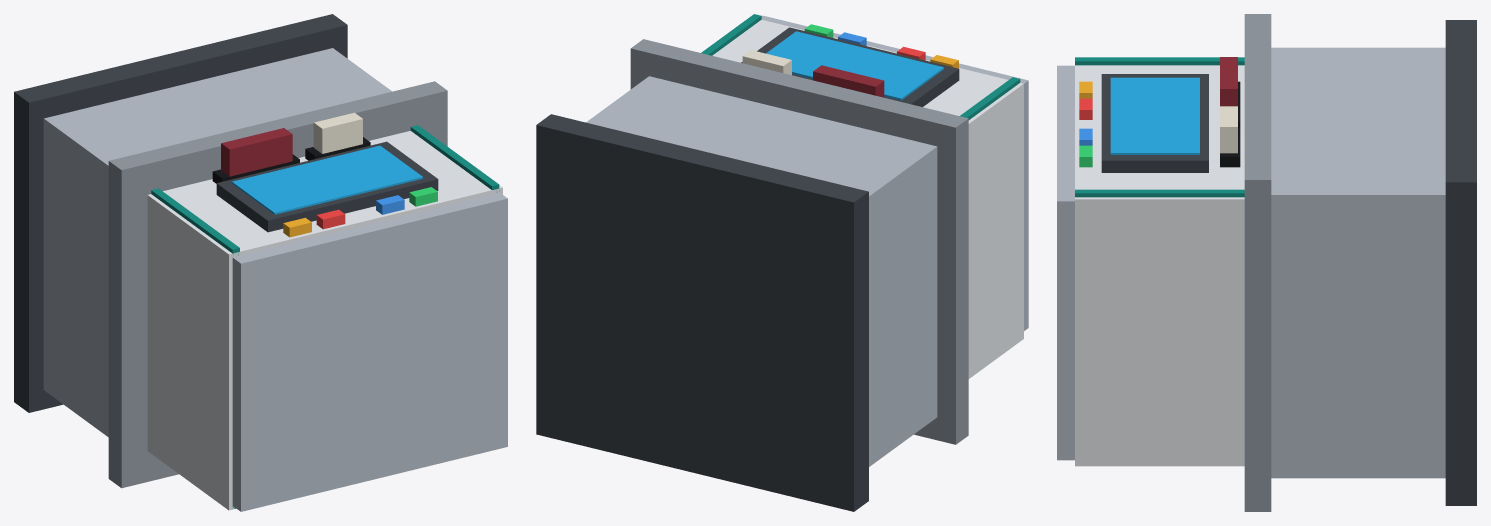
Rendered from passport_issuer.obj.
3 views of the same model, side by side, from view 1: azimuth 30°, elevation 25°; view 2: azimuth 150°, elevation 25°; view 3: azimuth 270°, elevation 25° (orthographic). The views are drawn at different scales.
Visible parts, largest first — view 1: DEV_16_passport_issuer_body2, DEV_01_passport_issuer_body2, DEV_03_passport_issuer_body, DEV_02_passport_issuer_top, DEV_00_passport_issuer_trim, DEV_05_passport_issuer_screen, DEV_04_passport_issuer_trim, DEV_09_passport_issuer_passport, DEV_08_passport_issuer_paper, DEV_11_passport_issuer_accent, DEV_10_passport_issuer_accent; view 2: DEV_00_passport_issuer_trim, DEV_01_passport_issuer_body2, DEV_02_passport_issuer_top, DEV_03_passport_issuer_body, DEV_05_passport_issuer_screen, DEV_16_passport_issuer_body2, DEV_04_passport_issuer_trim, DEV_09_passport_issuer_passport, DEV_08_passport_issuer_paper, DEV_11_passport_issuer_accent, DEV_10_passport_issuer_accent; view 3: DEV_01_passport_issuer_body2, DEV_03_passport_issuer_body, DEV_00_passport_issuer_trim, DEV_02_passport_issuer_top, DEV_16_passport_issuer_body2, DEV_05_passport_issuer_screen, DEV_04_passport_issuer_trim, DEV_10_passport_issuer_accent, DEV_11_passport_issuer_accent, DEV_09_passport_issuer_passport, DEV_08_passport_issuer_paper.
Boxes of the visible parts, bbox=[...] form: DEV_16_passport_issuer_body2: bbox=[232, 192, 507, 511]; DEV_01_passport_issuer_body2: bbox=[43, 48, 391, 437]; DEV_03_passport_issuer_body: bbox=[147, 131, 502, 510]; DEV_02_passport_issuer_top: bbox=[108, 81, 447, 488]; DEV_00_passport_issuer_trim: bbox=[14, 14, 347, 412]; DEV_05_passport_issuer_screen: bbox=[232, 145, 422, 214]; DEV_04_passport_issuer_trim: bbox=[216, 141, 438, 232]; DEV_09_passport_issuer_passport: bbox=[221, 128, 292, 176]; DEV_08_passport_issuer_paper: bbox=[313, 112, 362, 153]; DEV_11_passport_issuer_accent: bbox=[151, 188, 239, 508]; DEV_10_passport_issuer_accent: bbox=[410, 125, 499, 192]; DEV_00_passport_issuer_trim: bbox=[536, 114, 868, 511]; DEV_01_passport_issuer_body2: bbox=[586, 76, 937, 466]; DEV_02_passport_issuer_top: bbox=[630, 39, 968, 444]; DEV_03_passport_issuer_body: bbox=[712, 19, 1023, 378]; DEV_05_passport_issuer_screen: bbox=[766, 31, 943, 100]; DEV_16_passport_issuer_body2: bbox=[761, 15, 1028, 330]; DEV_04_passport_issuer_trim: bbox=[741, 27, 959, 106]; DEV_09_passport_issuer_passport: bbox=[813, 65, 884, 97]; DEV_08_passport_issuer_paper: bbox=[742, 50, 791, 75]; DEV_11_passport_issuer_accent: bbox=[959, 77, 1020, 119]; DEV_10_passport_issuer_accent: bbox=[701, 14, 761, 55]; DEV_01_passport_issuer_body2: bbox=[1271, 47, 1445, 478]; DEV_03_passport_issuer_body: bbox=[1075, 65, 1244, 466]; DEV_00_passport_issuer_trim: bbox=[1445, 20, 1476, 505]; DEV_02_passport_issuer_top: bbox=[1244, 14, 1271, 511]; DEV_16_passport_issuer_body2: bbox=[1057, 65, 1074, 460]; DEV_05_passport_issuer_screen: bbox=[1110, 77, 1199, 154]; DEV_04_passport_issuer_trim: bbox=[1101, 74, 1208, 172]; DEV_10_passport_issuer_accent: bbox=[1075, 189, 1244, 197]; DEV_11_passport_issuer_accent: bbox=[1075, 57, 1244, 65]; DEV_09_passport_issuer_passport: bbox=[1220, 57, 1237, 106]; DEV_08_passport_issuer_paper: bbox=[1220, 106, 1237, 153].
Bounding box in the file's own units: 0.88 × 0.835 × 0.94.
